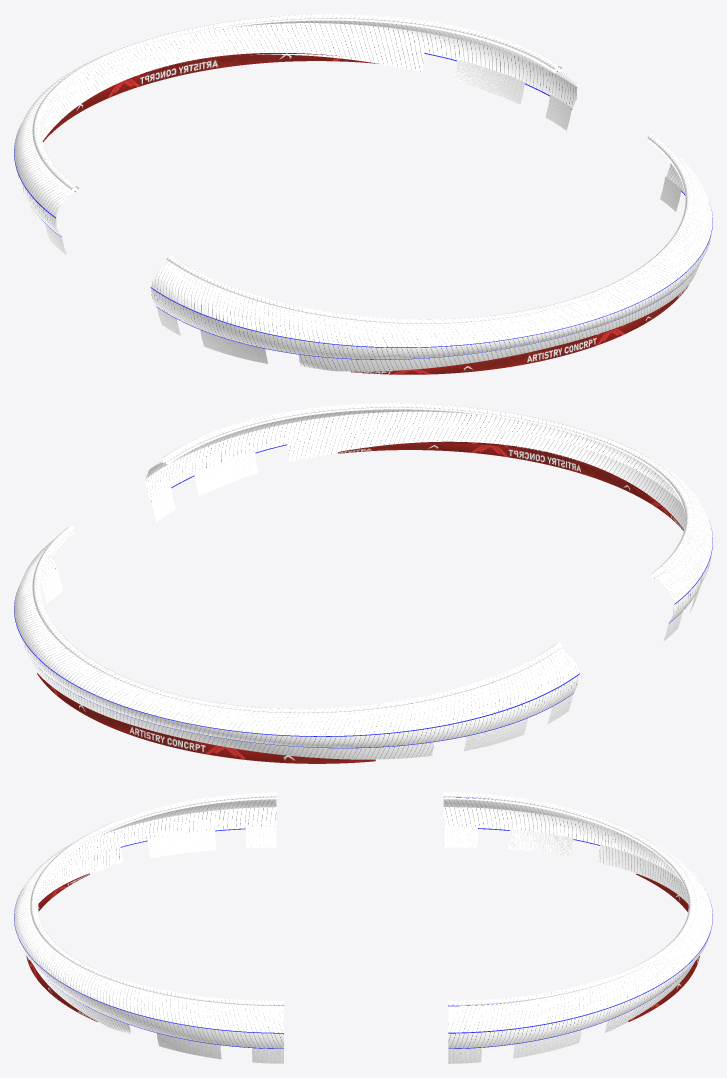
File: ibn_battuta_stadium_part2_shield_v2.glb
3 views of the same model, one above another, from view 1: azimuth 30°, elevation 25°; view 2: azimuth 150°, elevation 25°; view 3: azimuth 270°, elevation 25° (orthographic). The views are drawn at different scales.
Parts seen in each view (by area): view 1: Plane.008; view 2: Plane.008; view 3: Plane.008.
Part boxes in pixels (x1=…): Plane.008: x1=14, y1=14, x2=712, y2=374; Plane.008: x1=14, y1=403, x2=712, y2=763; Plane.008: x1=14, y1=792, x2=712, y2=1063.
Size of the model in its own units: 247 by 30.07 by 323.
Materials: 3 (2 with a texture image).
